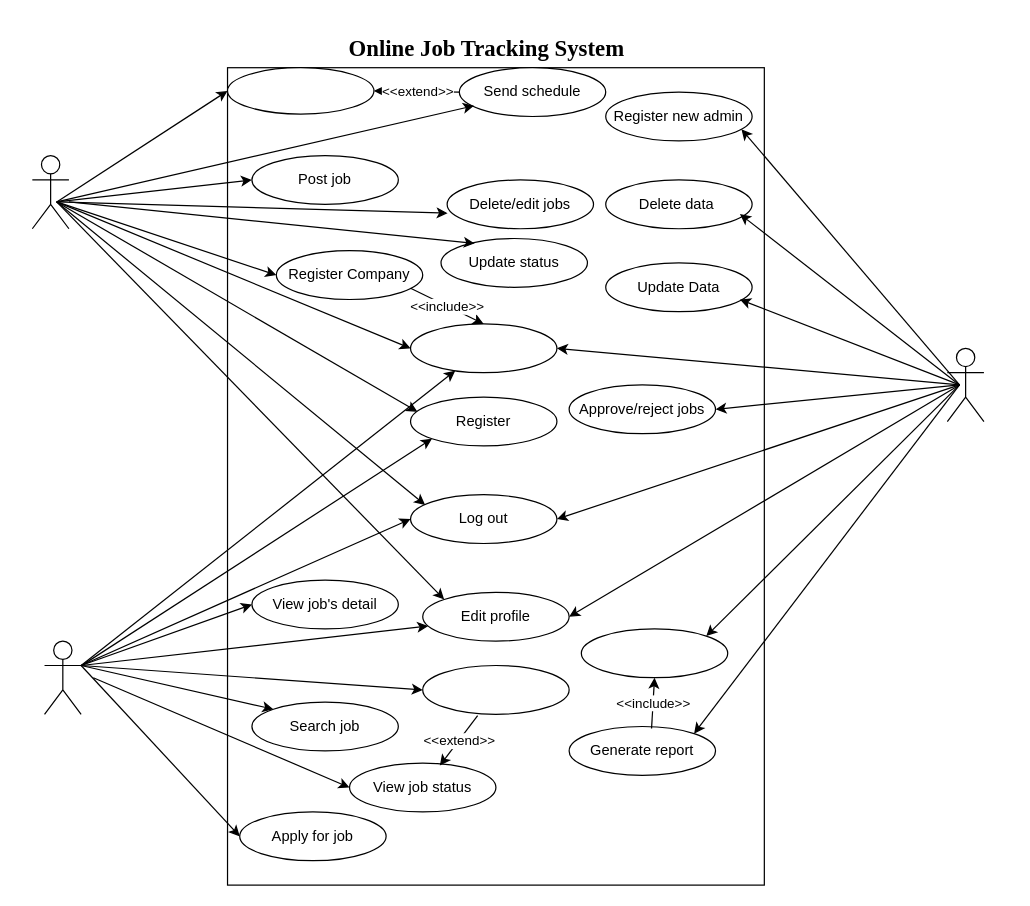
This 1030x906 diagram has some shape labels left out. Each missing label, with the centre of its shape:
Administrator: pixel 965 384
Job Seeker: pixel 62 677
Login: pixel 483 348
Receive notification: pixel 495 689
Recruiter: pixel 50 191
View applicant: pixel 300 90
View total user: pixel 654 653
